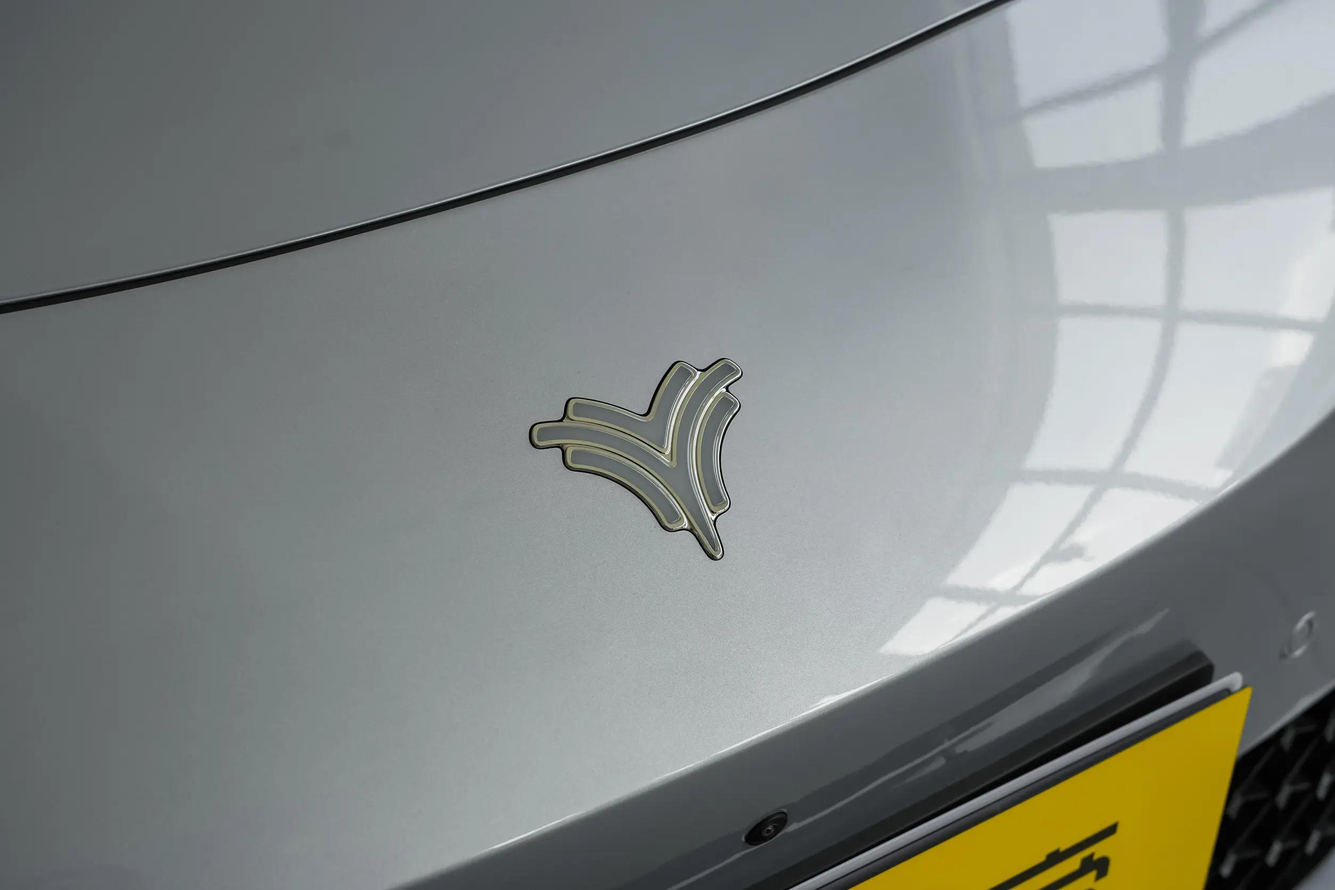NETA: (529, 357, 744, 566)
